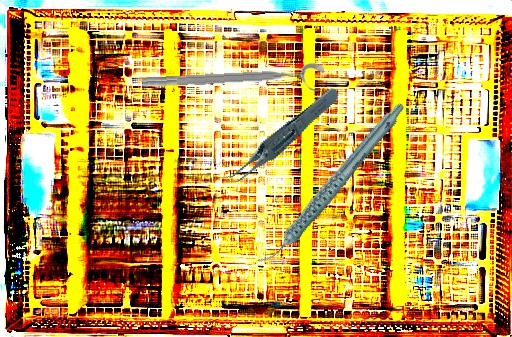Fixation Ring: (141, 62, 326, 103)
Handpiece: (230, 100, 432, 268)
Tissue Forceps: (205, 85, 354, 189)
